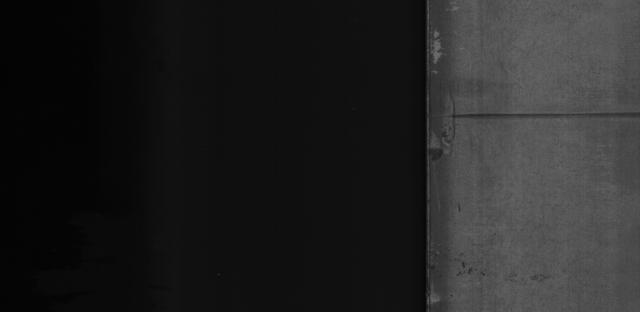crease: (440, 102, 640, 133)
